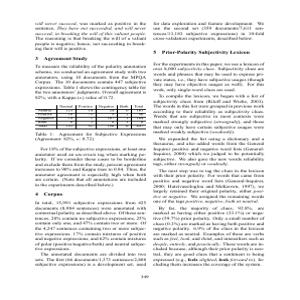table: (34, 103, 148, 135)
text: (154, 19, 268, 270), (35, 136, 149, 270), (33, 20, 148, 103)
